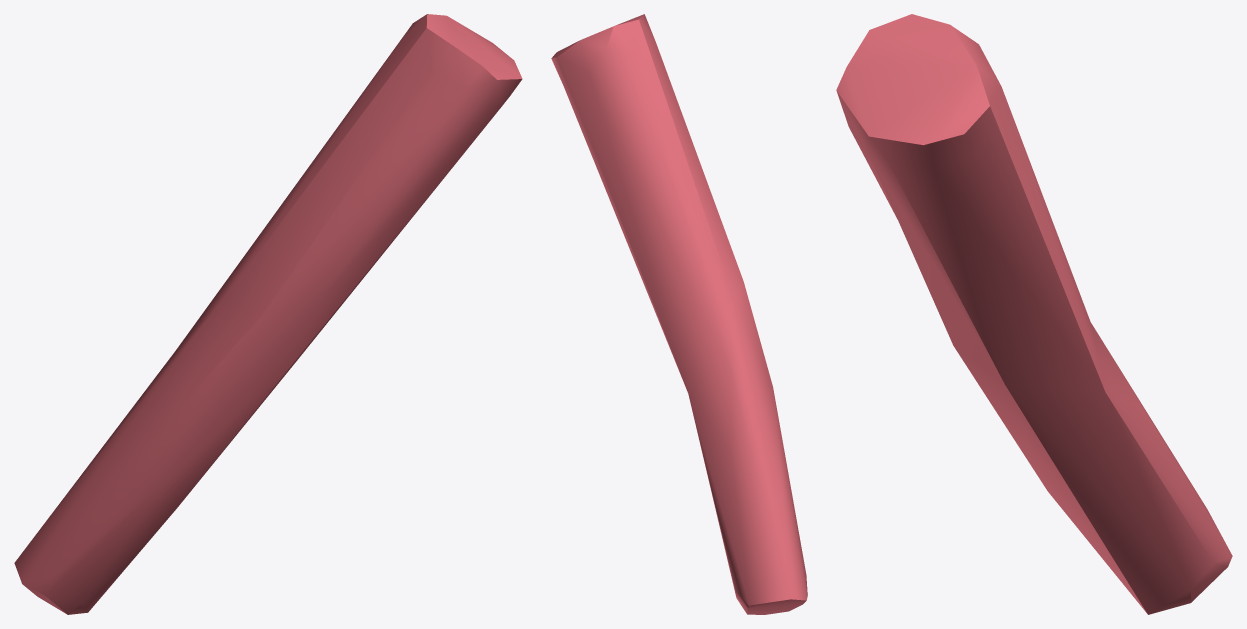
The model's file is fma8647_fj2914.glb.
3 views of the same model, side by side, from view 1: azimuth 30°, elevation 25°; view 2: azimuth 150°, elevation 25°; view 3: azimuth 270°, elevation 25° (orthographic). The views are drawn at different scales.
Parts seen in each view (by area): view 1: FMA8647_FJ2914; view 2: FMA8647_FJ2914; view 3: FMA8647_FJ2914.
Boxes of the visible parts, x1,y1,x2,y2 form: FMA8647_FJ2914: (14, 14, 522, 614); FMA8647_FJ2914: (551, 14, 807, 614); FMA8647_FJ2914: (836, 14, 1232, 614).
Bounding box in the file's own units: 0.01 × 0.0143 × 0.00683.
